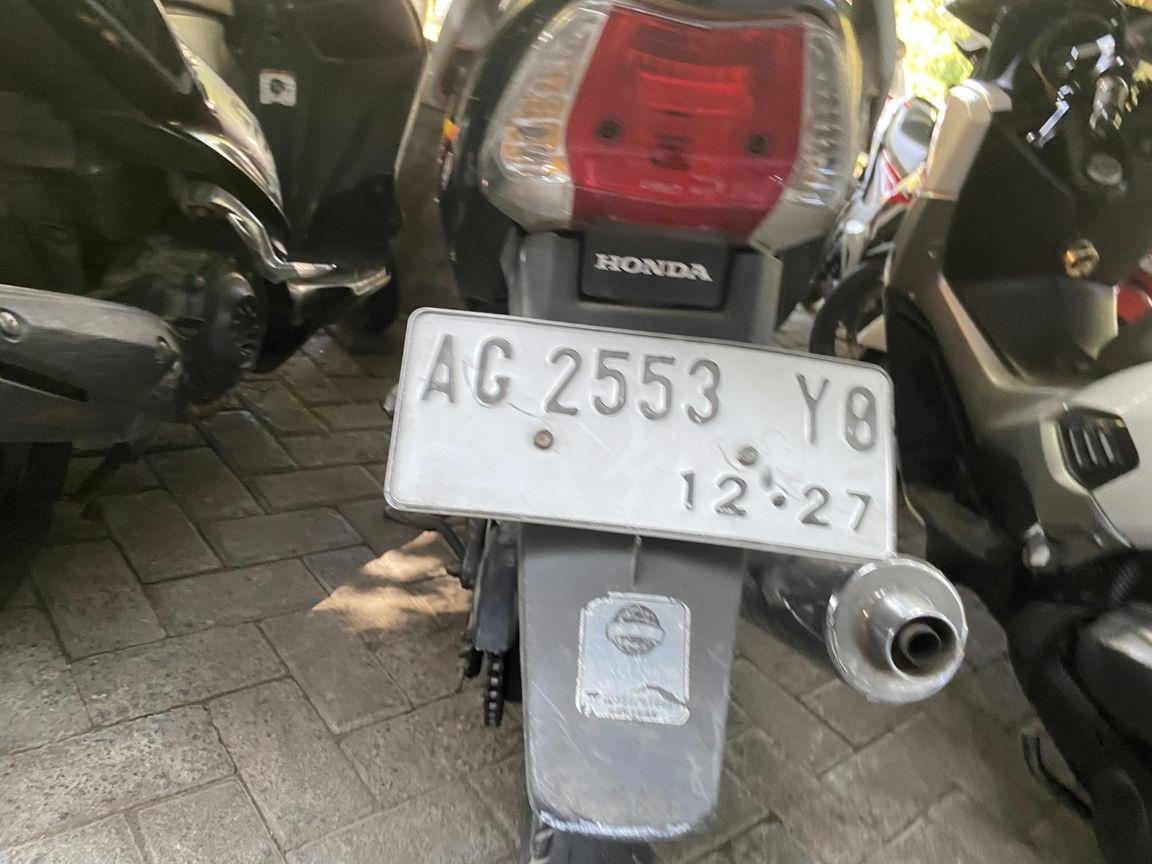plat: (385, 308, 896, 560)
